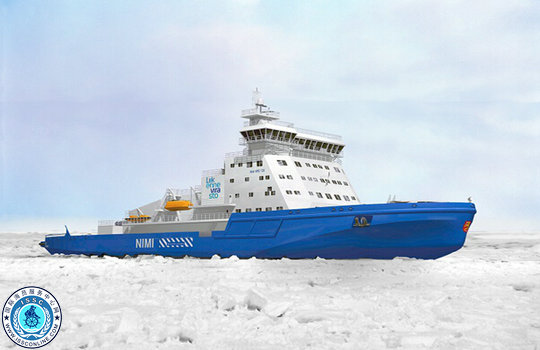otherboat: (42, 90, 486, 265)
